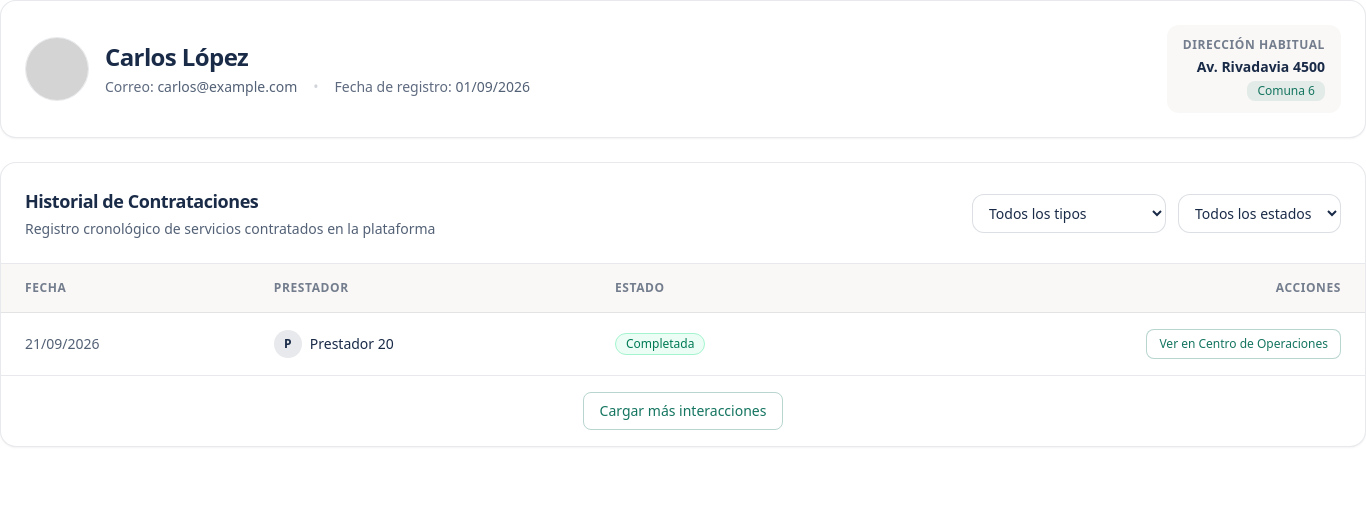
Test: ConsumerHistoryClient › keeps loaded interactions visible and retries a failed next page
expect the text "Prestador 20" is shown: met, box left=310, top=334, right=394, bottom=354
Click the button "Cargar más interacciones" at (683, 411), box left=583, top=392, right=784, bottom=430
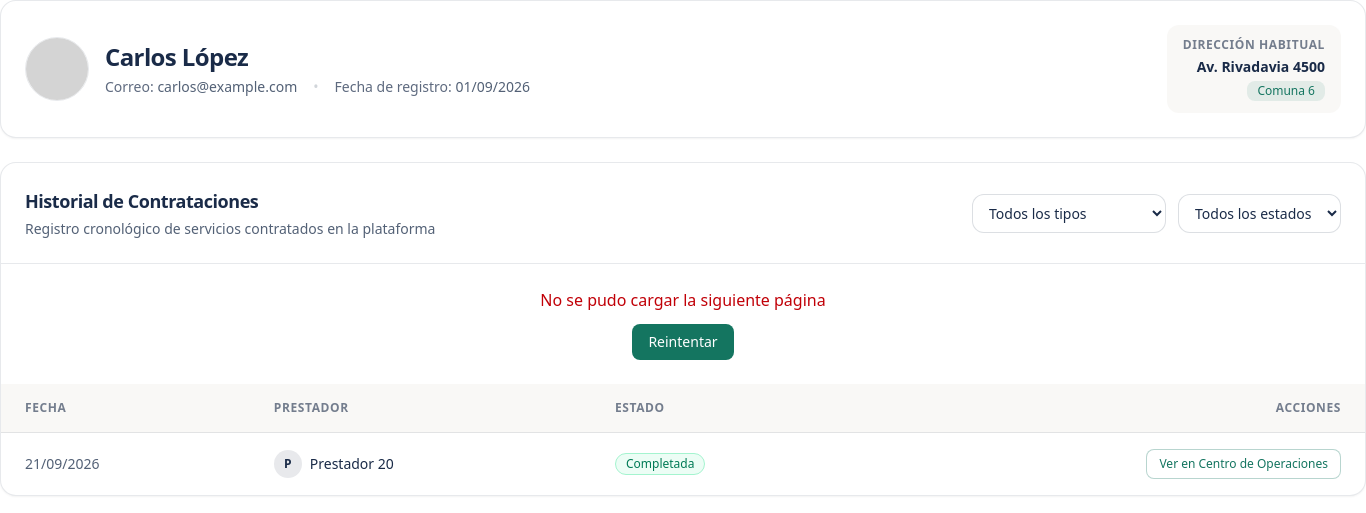
expect the text "Prestador 20" is shown: met, box left=310, top=454, right=394, bottom=474
expect the message shows "No se pudo cargar la siguiente página": met, box left=540, top=289, right=826, bottom=311
Click the button "Reintentar" at (683, 342), box left=632, top=324, right=734, bottom=360
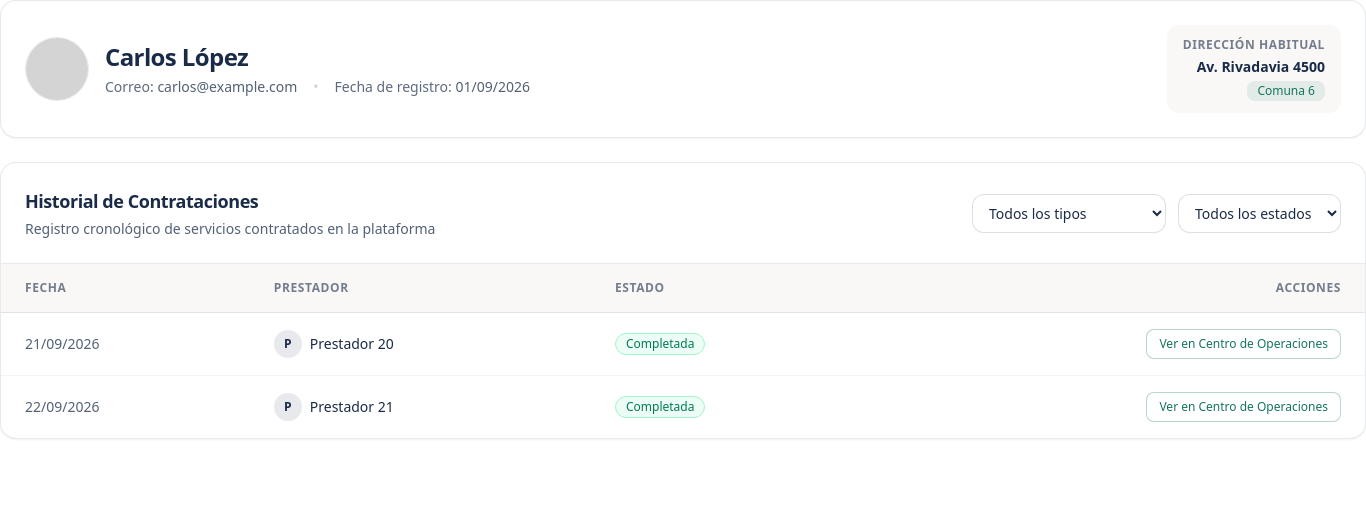
expect the text "Prestador 20" is shown: met, box left=310, top=334, right=394, bottom=354
expect the text "Prestador 21" is shown: met, box left=310, top=397, right=394, bottom=417
